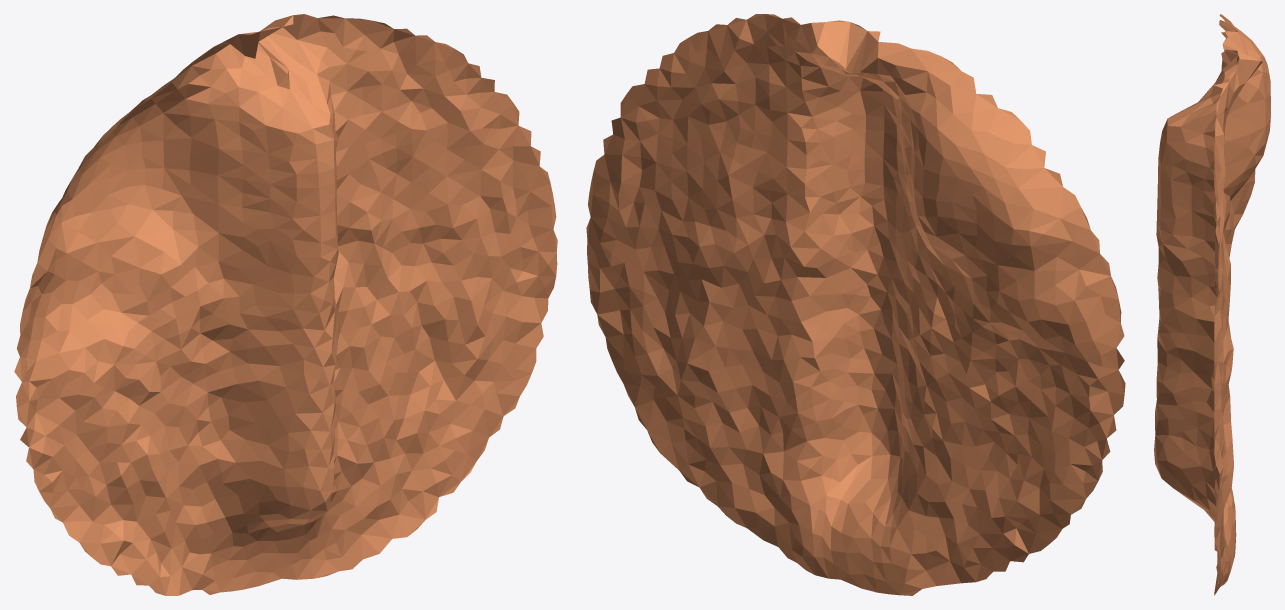
The model's file is World.fbx.
The picture shows the model from 3 angles, left to right: view 1: azimuth 30°, elevation 25°; view 2: azimuth 150°, elevation 25°; view 3: azimuth 270°, elevation 25°; orthographic projection. The views are drawn at different scales.
Visible parts, largest first — view 1: Ground; view 2: Ground; view 3: Ground.
Part boxes in pixels (bbox=[...]): Ground: bbox=[14, 14, 557, 595]; Ground: bbox=[586, 14, 1125, 595]; Ground: bbox=[1154, 14, 1270, 595].
Bounding box in the file's own units: 2000 × 1985 × 402.
